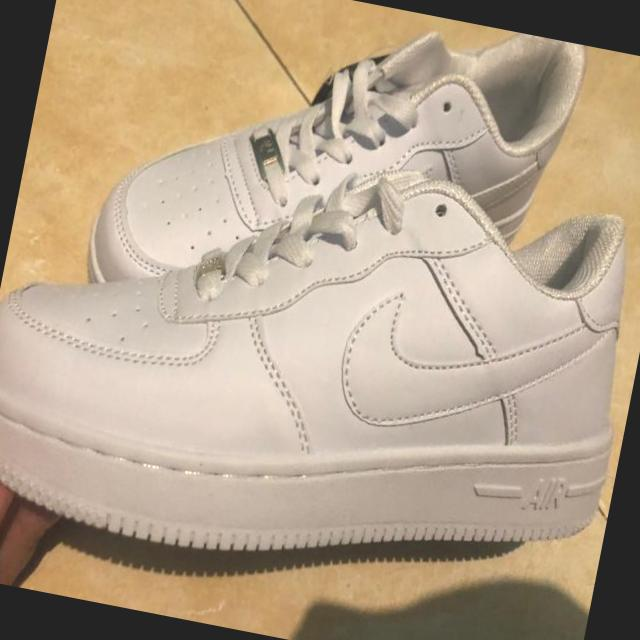nike_fake_airforce: (0, 92, 640, 625), (77, 0, 596, 388)
